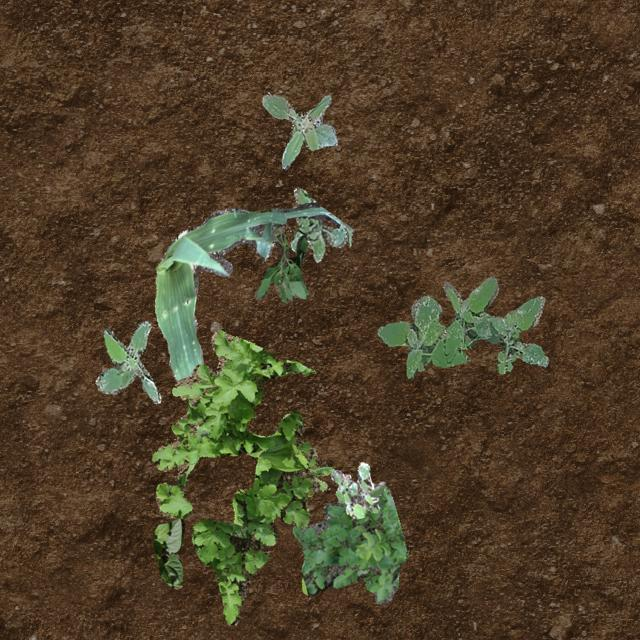crop: (154, 202, 354, 382), (152, 516, 184, 588)
weed: (150, 328, 318, 624), (377, 276, 548, 378), (292, 486, 406, 604), (260, 94, 336, 168), (94, 320, 160, 402), (254, 222, 308, 302), (290, 186, 346, 262), (329, 462, 384, 518), (308, 464, 330, 489)
